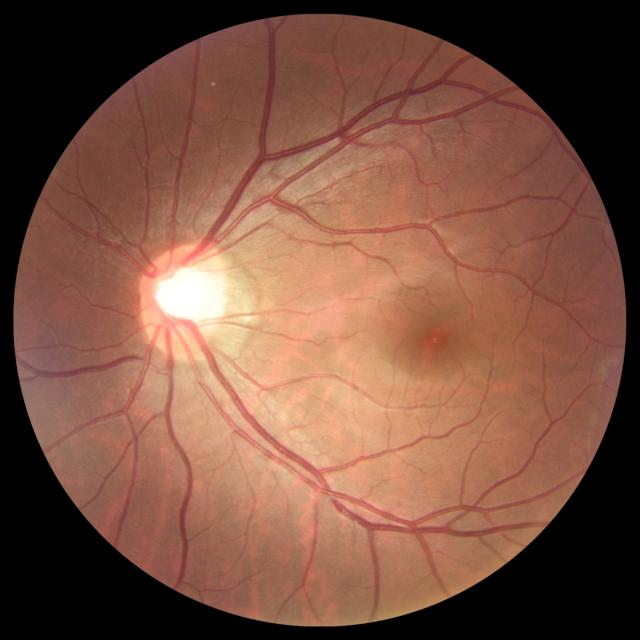OC: (151, 263, 216, 324)
OD: (138, 238, 233, 353)
